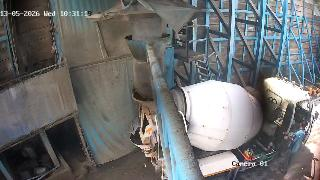cement_mixer_truck: (131, 77, 320, 180)
swing_chute: (123, 33, 170, 97)
